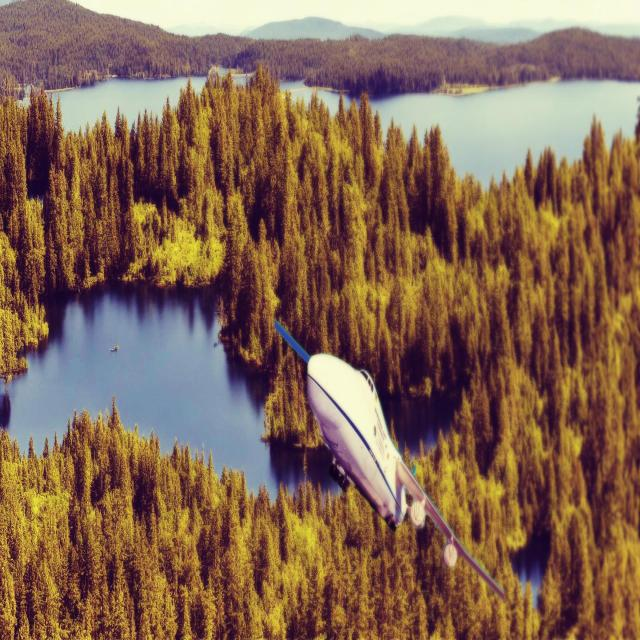airplane: (273, 317, 505, 600)
